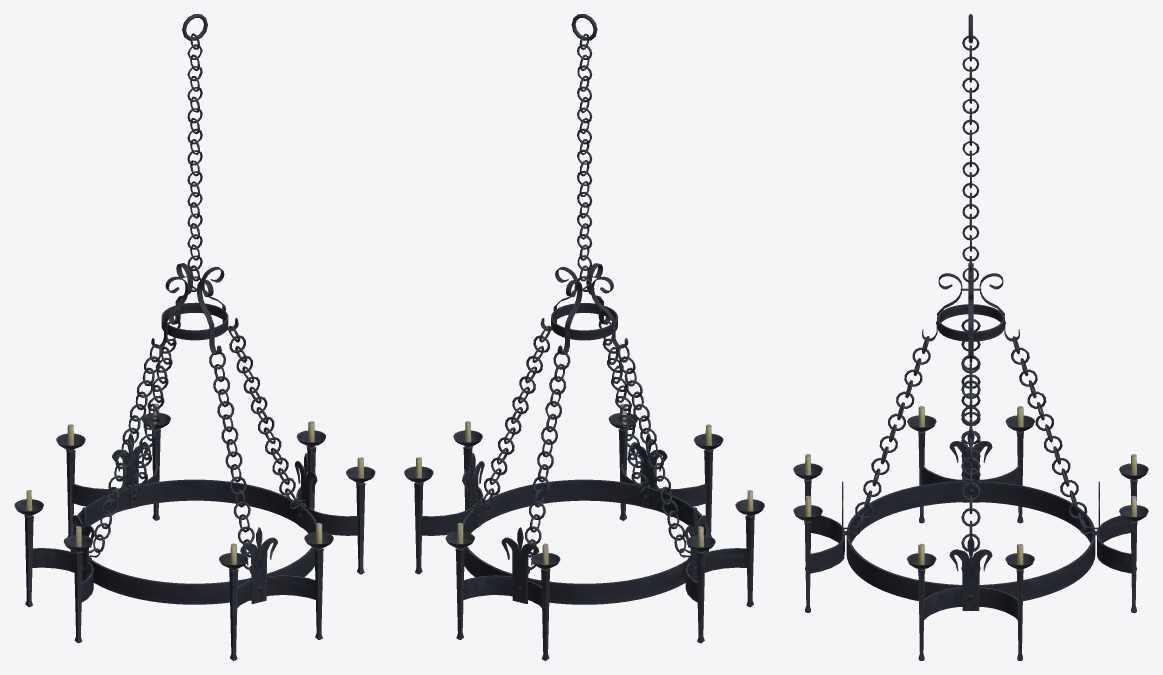
The model's file is chandelier.glb.
3 views of the same model, side by side, from view 1: azimuth 30°, elevation 25°; view 2: azimuth 150°, elevation 25°; view 3: azimuth 270°, elevation 25° (orthographic).
Visible parts, largest first — view 1: main_low.004_chandelier_0; view 2: main_low.004_chandelier_0; view 3: main_low.004_chandelier_0.
Part boxes in pixels (box(x1,y1,x2,y2)): main_low.004_chandelier_0: box(14, 14, 375, 660); main_low.004_chandelier_0: box(404, 14, 764, 660); main_low.004_chandelier_0: box(793, 14, 1148, 660).
Size of the model in its own units: 2.84 by 5.07 by 2.84.
1 material, 1 textured.
